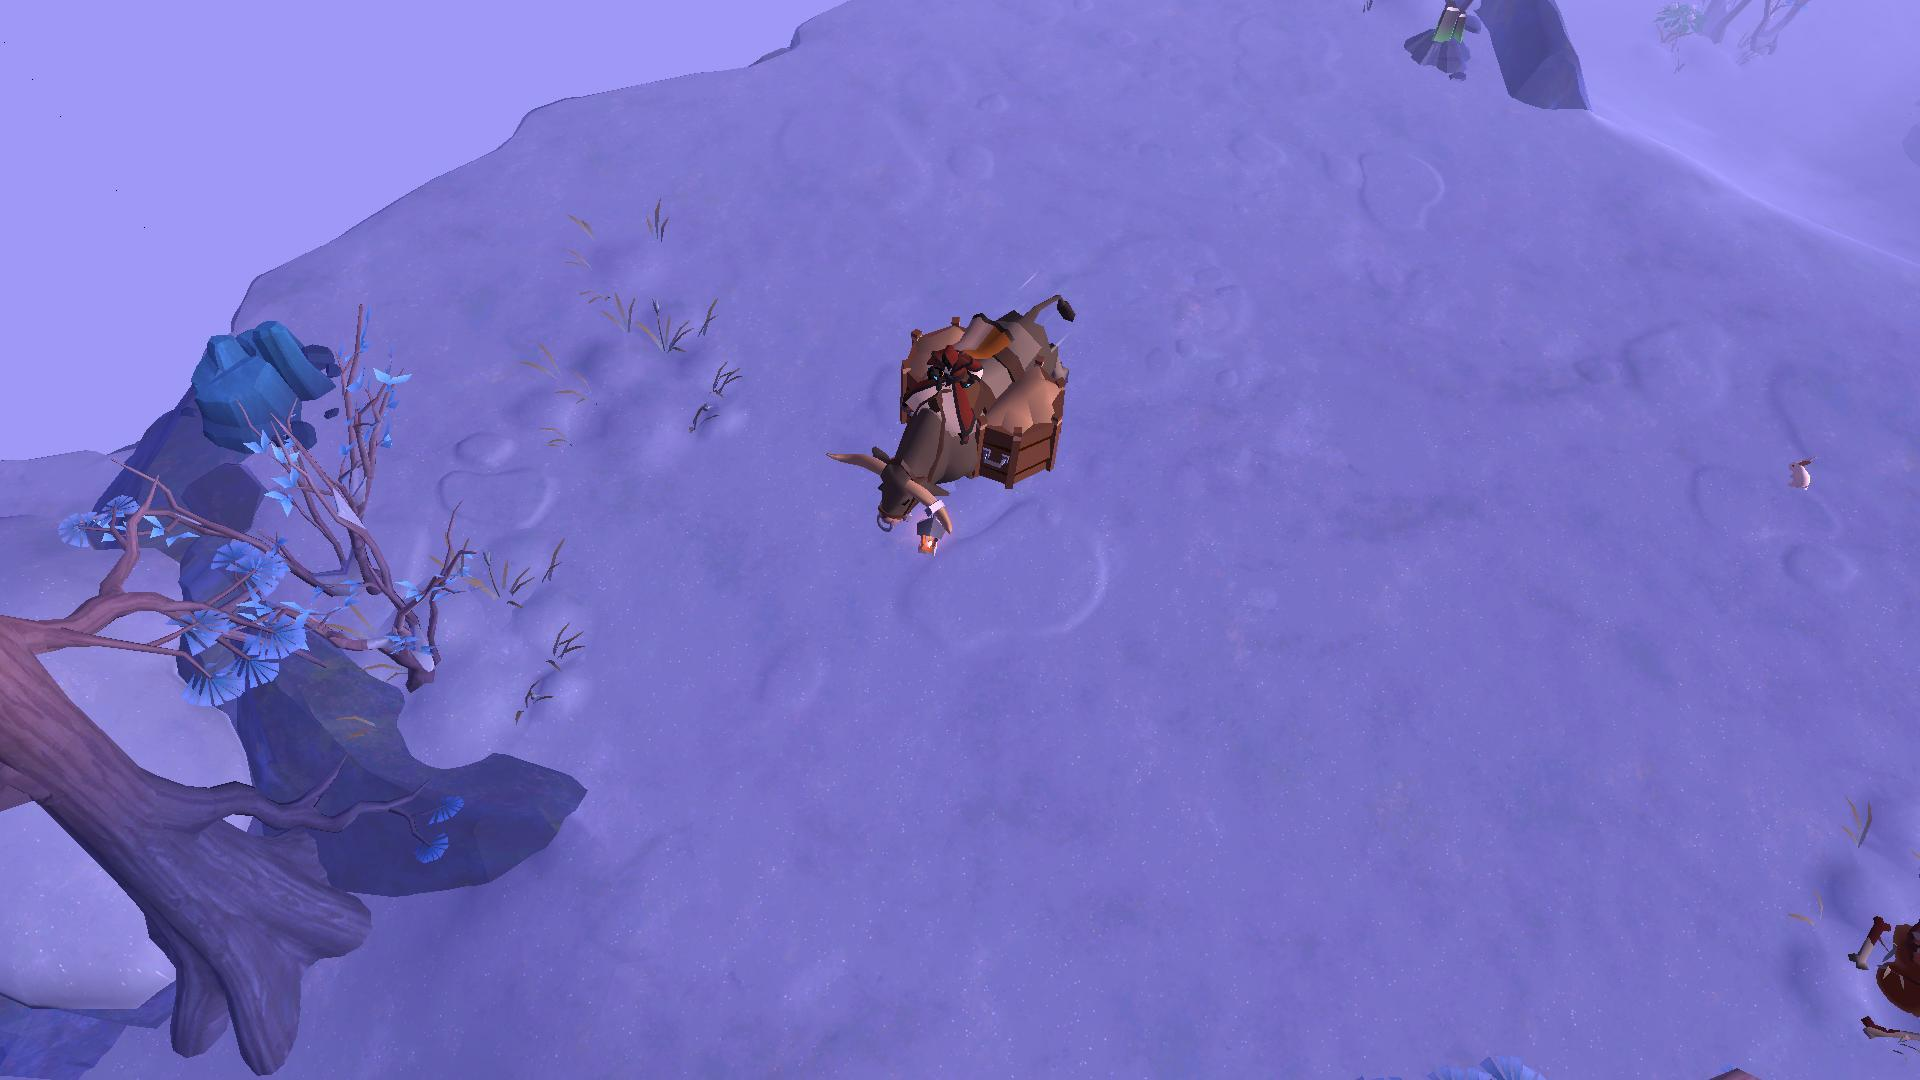ore_t3: (1432, 4, 1476, 55)
rock_t4: (167, 314, 355, 444)
